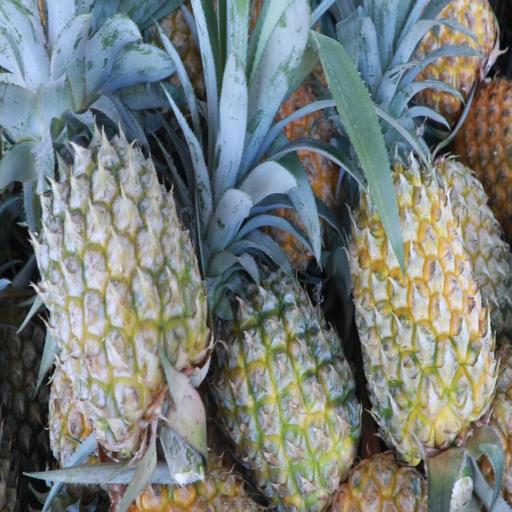------------------------------: (44, 147, 203, 450)
Pineapple - v8 v1: (358, 162, 496, 450), (224, 278, 360, 505), (409, 0, 498, 105)
